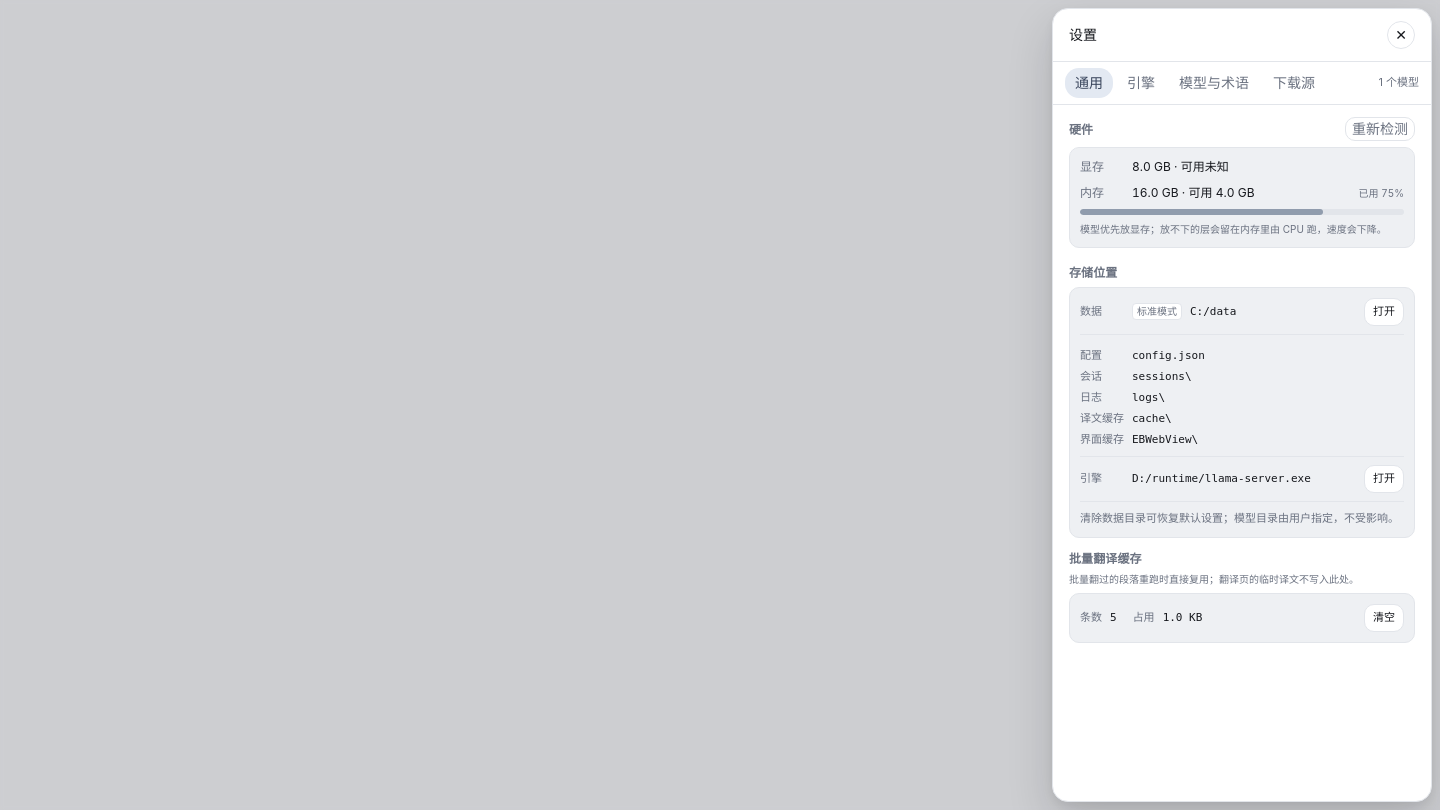
it: ModelDrawer · 设置读写 › 已装引擎时第一下只变文字，不发起下载
What coordinates should you click on to do the following:
click the tab "引擎"
I would click on:
 (1141, 83)
Its box is top-left (1117, 68), bottom-right (1165, 98).
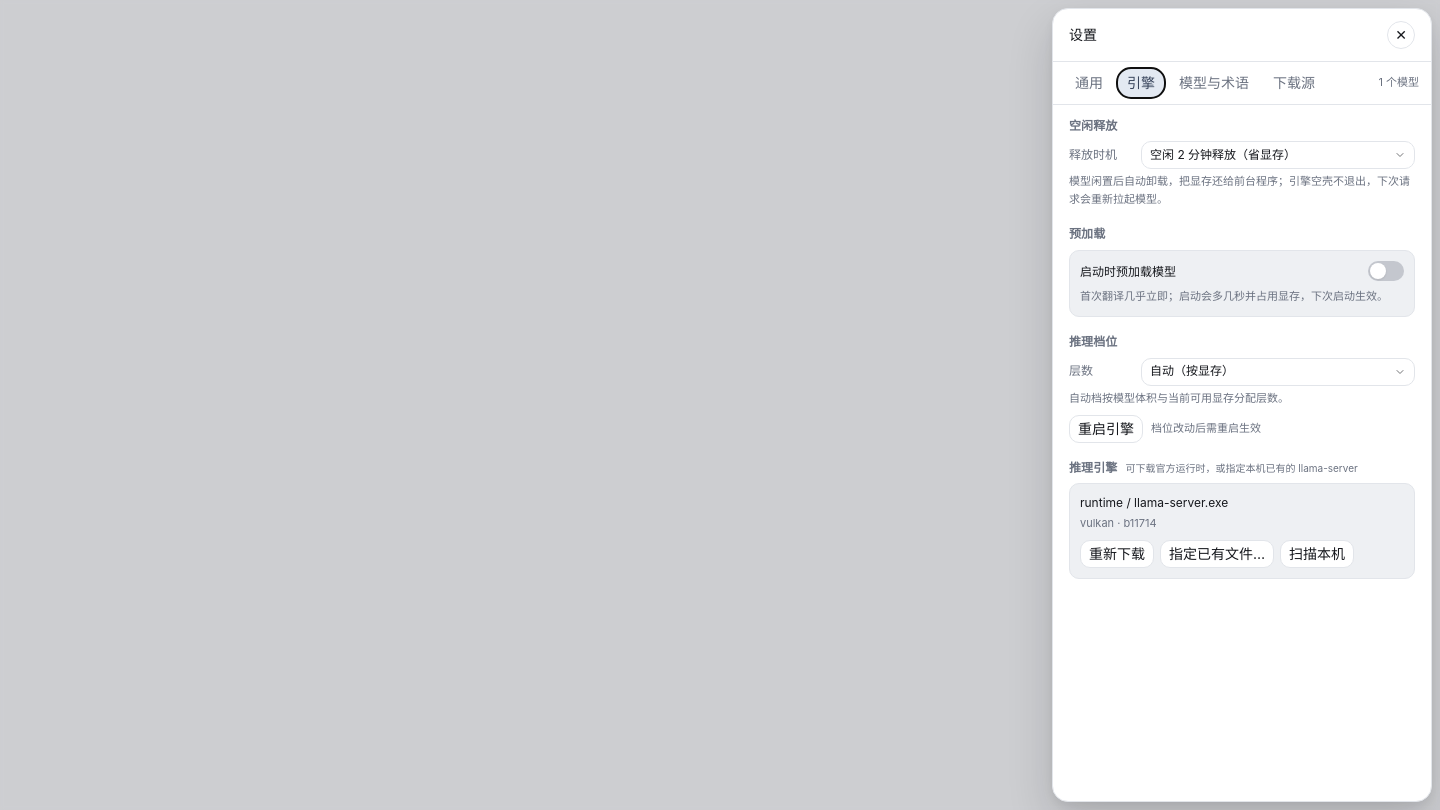
What coordinates should you click on to do the following:
click the button "重新下载"
I would click on:
 (1117, 554)
Its box is top-left (1080, 540), bottom-right (1154, 568).
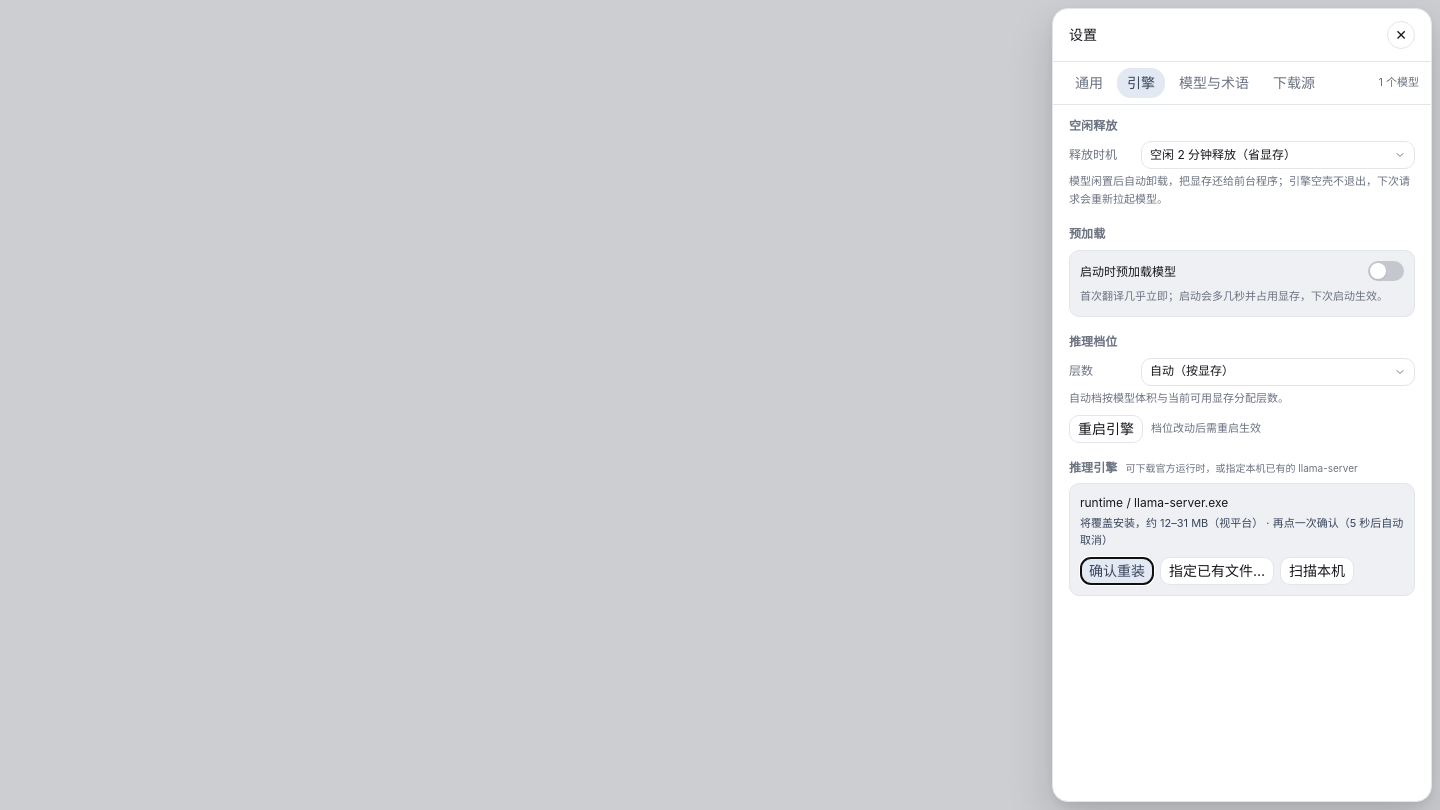
expect the button "确认重装" is shown: met, box top-left (1080, 557), bottom-right (1154, 585)
